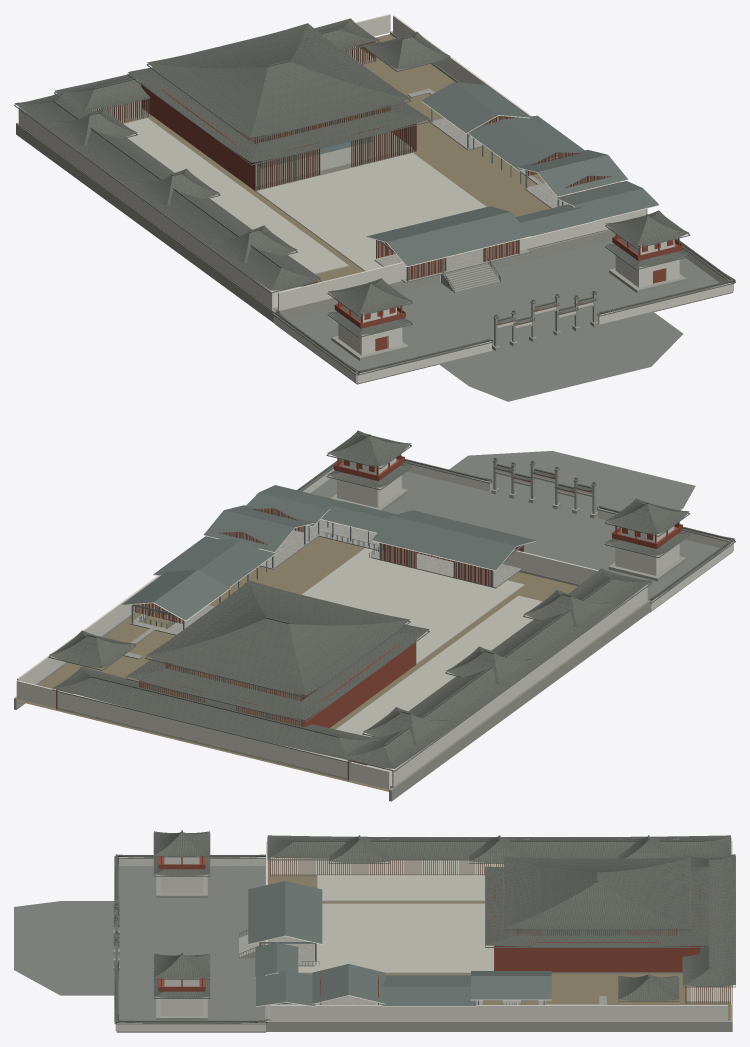
Rendered from shangqing-entry-route.glb.
3 views of the same model, one above another, from view 1: azimuth 30°, elevation 25°; view 2: azimuth 150°, elevation 25°; view 3: azimuth 270°, elevation 25° (orthographic). The views are drawn at different scales.
Parts seen in each view (by area): view 1: Existing context - 1990s front court paving, Existing context - main hipped roof, Existing context - central court, Existing context - south apron, Unmodelled archaeology and site datum, Existing context - west exhibition gallery roof, Existing context - main lower eaves, Existing context - west marking court, Existing context - gallery accent roof, Southern entrance pavilion roof, Existing context - outer white gallery wall, Existing context - south white gallery wall (+26 smaller); view 2: Existing context - main hipped roof, Existing context - 1990s front court paving, Existing context - central court, Existing context - west exhibition gallery roof, Unmodelled archaeology and site datum, Existing context - north return gallery roof, Existing context - south apron, Existing context - main lower eaves, Existing context - north white gallery wall, Existing context - gallery accent roof, Existing context - west marking court, Existing context - outer white gallery wall (+27 smaller); view 3: Existing context - 1990s front court paving, Existing context - main hipped roof, Existing context - central court, Existing context - south apron, Existing context - outer white gallery wall, Existing context - west exhibition gallery roof, Existing context - main lower eaves, Existing context - outer retaining wall, Existing context - main hall red side cladding, Existing context - gallery accent roof, Existing context - north return gallery roof, Existing context - west marking court (+31 smaller).
Boxes of the visible parts, box(x1,y1,x2,y2) form: Existing context - 1990s front court paving: box(275, 240, 732, 384); Existing context - main hipped roof: box(147, 23, 410, 137); Existing context - central court: box(255, 153, 486, 271); Existing context - south apron: box(439, 311, 683, 401); Unmodelled archaeology and site datum: box(123, 34, 612, 313); Existing context - west exhibition gallery roof: box(14, 90, 320, 290); Existing context - main lower eaves: box(128, 67, 430, 162); Existing context - west marking court: box(123, 118, 348, 274); Existing context - gallery accent roof: box(50, 31, 450, 262); Southern entrance pavilion roof: box(366, 206, 530, 266); Existing context - outer white gallery wall: box(19, 15, 647, 309); Existing context - south white gallery wall: box(278, 209, 645, 310); Existing context - main hipped roof: box(146, 580, 409, 695); Existing context - 1990s front court paving: box(310, 471, 732, 612); Existing context - central court: box(301, 548, 524, 664); Existing context - west exhibition gallery roof: box(344, 568, 651, 768); Unmodelled archaeology and site datum: box(17, 536, 577, 791); Existing context - north return gallery roof: box(52, 666, 378, 760); Existing context - south apron: box(449, 451, 695, 517); Existing context - main lower eaves: box(126, 624, 429, 720); Existing context - north white gallery wall: box(16, 680, 389, 789); Existing context - gallery accent roof: box(49, 589, 610, 744); Existing context - west marking court: box(336, 595, 542, 737); Existing context - outer white gallery wall: box(17, 575, 647, 787); Existing context - 1990s front court paving: box(116, 866, 265, 1032); Existing context - main hipped roof: box(504, 857, 690, 929); Existing context - central court: box(298, 903, 493, 973); Existing context - south apron: box(14, 901, 115, 995); Existing context - outer white gallery wall: box(270, 1005, 727, 1021); Existing context - west exhibition gallery roof: box(267, 835, 730, 859); Existing context - main lower eaves: box(485, 866, 709, 946); Existing context - outer retaining wall: box(266, 857, 732, 1031); Existing context - main hall red side cladding: box(494, 942, 699, 972); Existing context - gallery accent roof: box(329, 836, 678, 1000); Existing context - north return gallery roof: box(683, 854, 735, 986); Existing context - west marking court: box(317, 875, 484, 901).
Size of the model in its own units: 85.49 by 17.3 by 155.
Materials: 17 (2 with a texture image).
